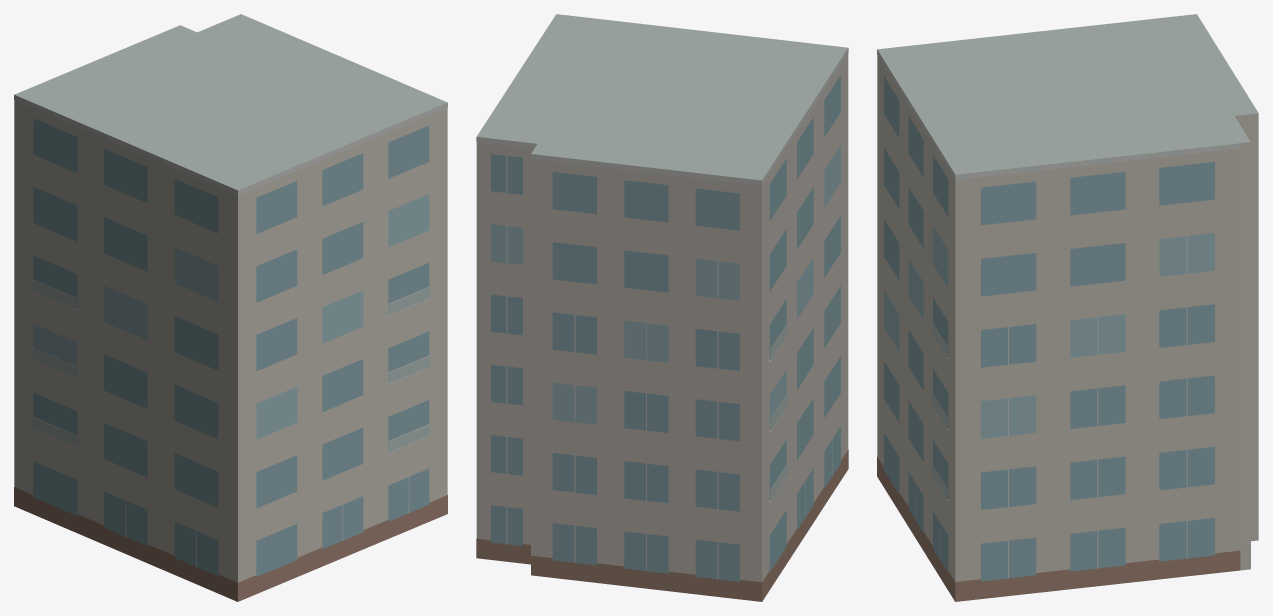
Rendered from survey-upis-33014102.glb.
3 renders of one model, left to right at view 1: azimuth 30°, elevation 25°; view 2: azimuth 150°, elevation 25°; view 3: azimuth 270°, elevation 25°, orthographic. The views are drawn at different scales.
Parts seen in each view (by area): view 1: survey-upis-33014102.tmp; view 2: survey-upis-33014102.tmp; view 3: survey-upis-33014102.tmp.
Boxes of the visible parts, <box> form: survey-upis-33014102.tmp: <box>14,14,447,601</box>; survey-upis-33014102.tmp: <box>476,14,848,601</box>; survey-upis-33014102.tmp: <box>877,14,1258,601</box>.
Bounding box in the file's own units: 15.29 × 18.94 × 15.34.
